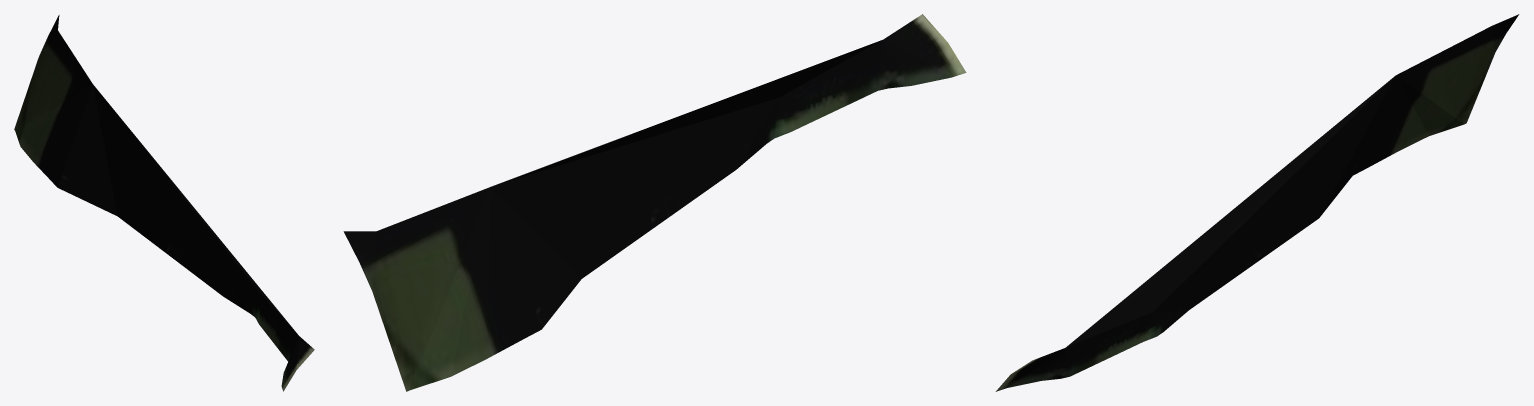
3 views of the same model, side by side, from view 1: azimuth 30°, elevation 25°; view 2: azimuth 150°, elevation 25°; view 3: azimuth 330°, elevation 25° (orthographic). The views are drawn at different scales.
Bounding box in the file's own units: 4.55 × 4.05 × 23.6.
1 material, 1 textured.
